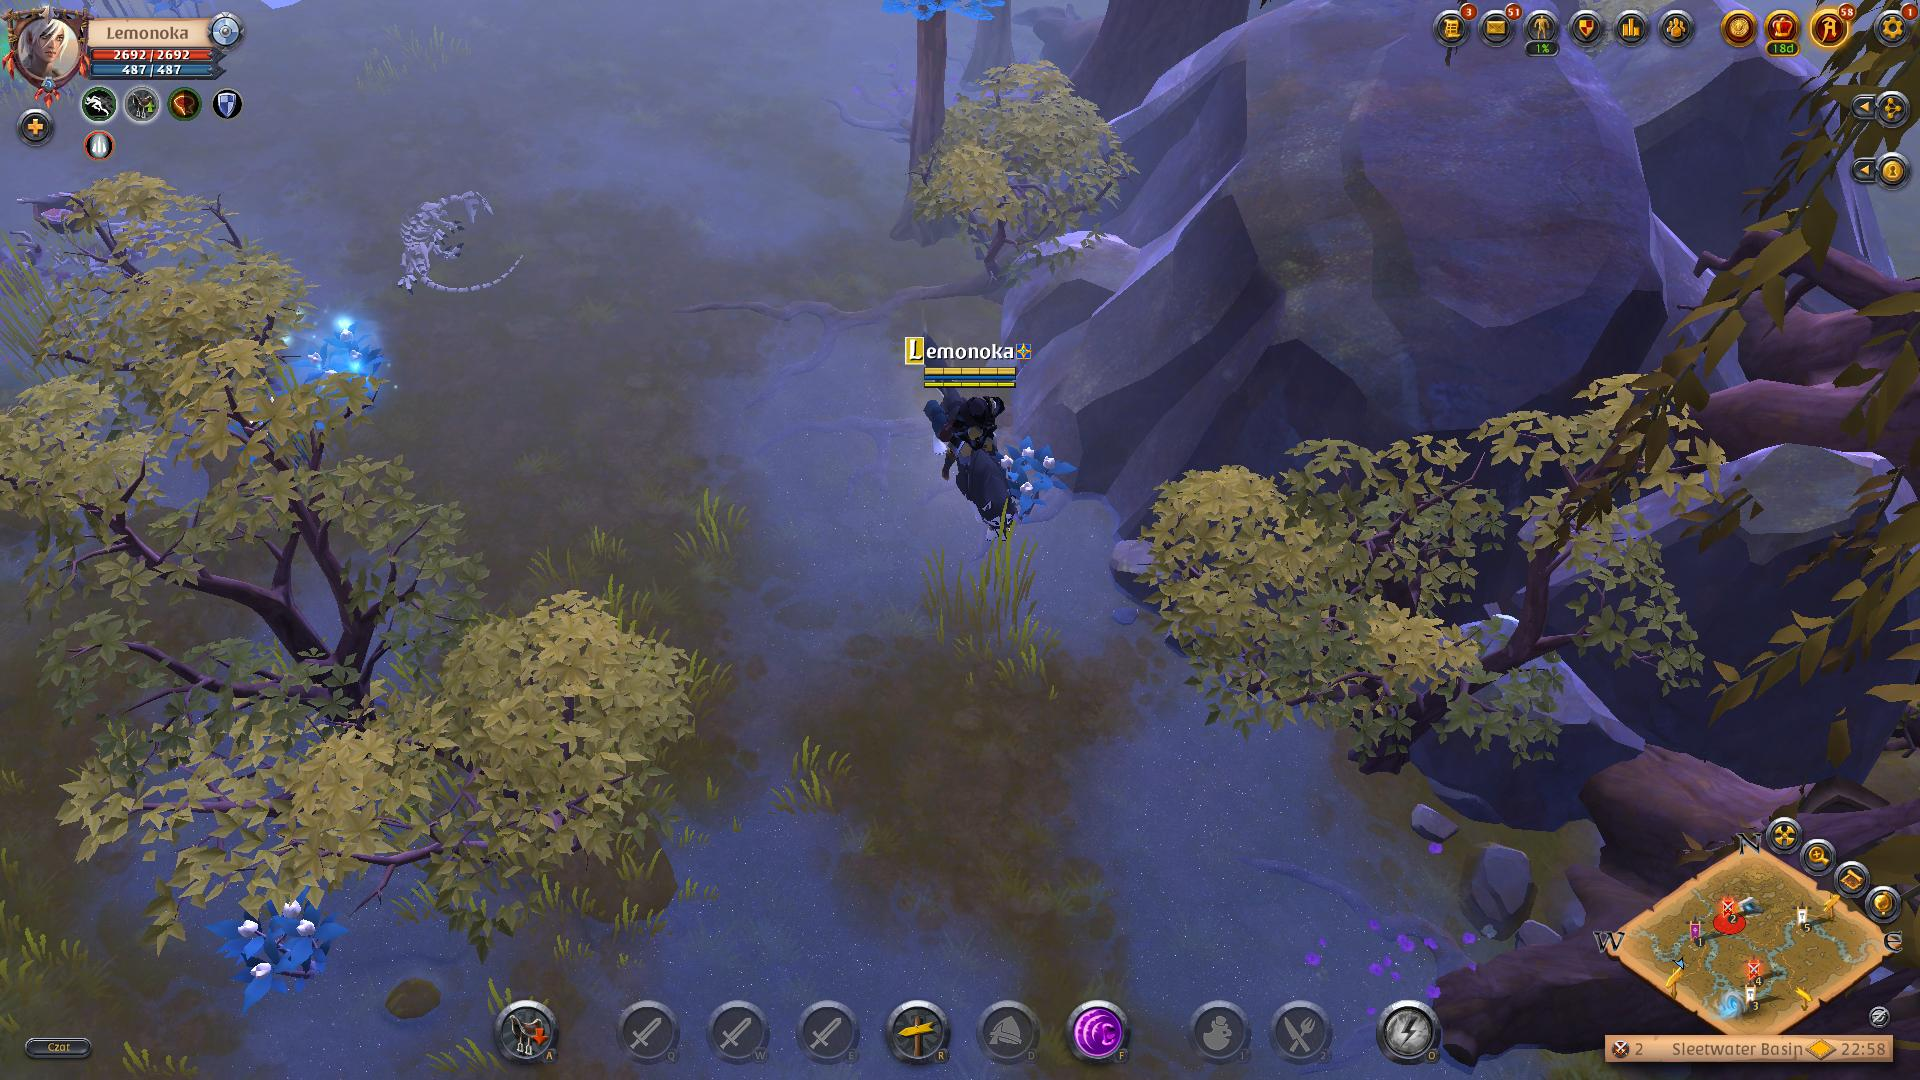fiber tier 4: (219, 890, 348, 1000), (996, 435, 1075, 526)
